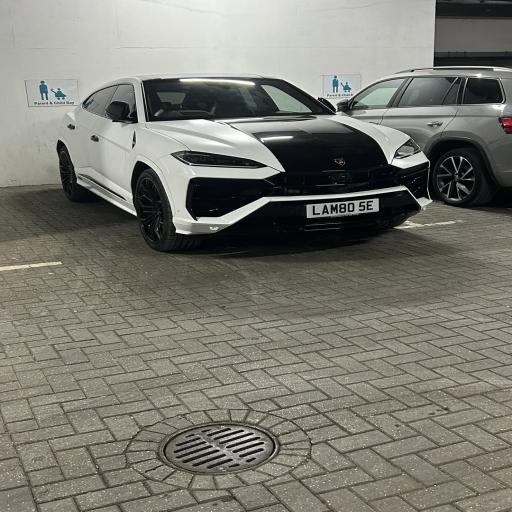numberplates: (307, 198, 379, 218)
